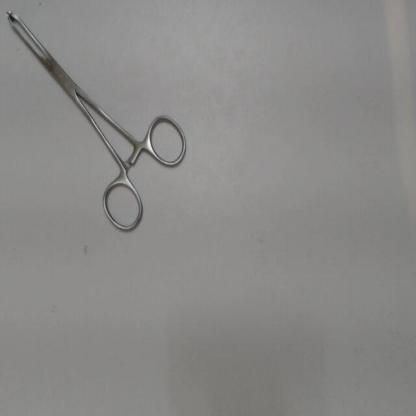Allis Tissue Forceps: (0, 5, 194, 239)
